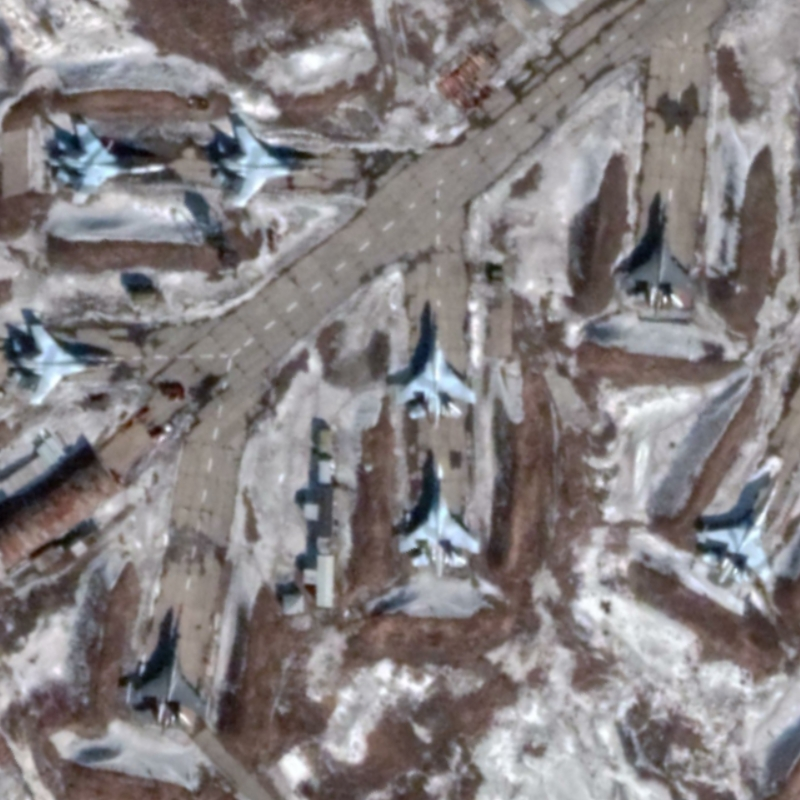A1: (122, 603, 218, 730), (41, 120, 171, 211), (6, 318, 125, 411), (206, 120, 326, 211), (394, 460, 484, 581), (692, 476, 783, 591), (394, 308, 479, 430), (617, 198, 700, 317)
